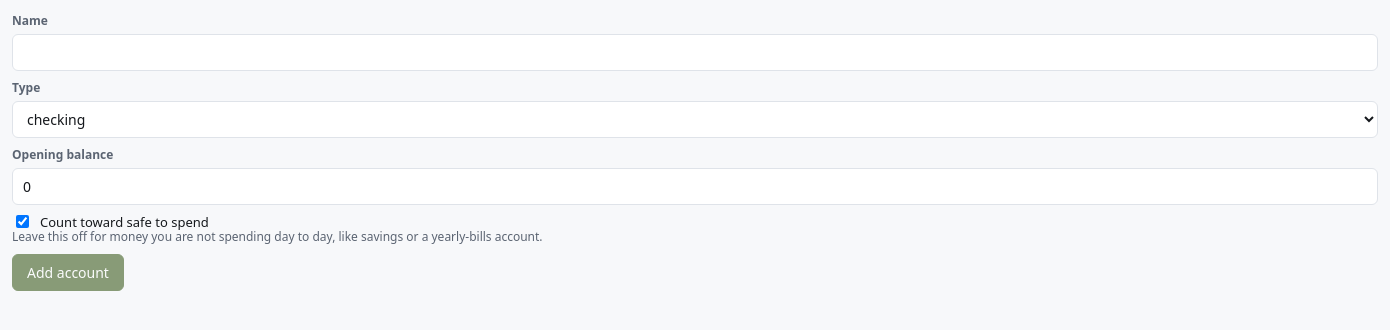
AddAccountForm › puts the server's issue on the field it names
Type "Checking" into the field labelled "Name".
click(695, 52); type("Checking")  # box [12,34,1378,71]
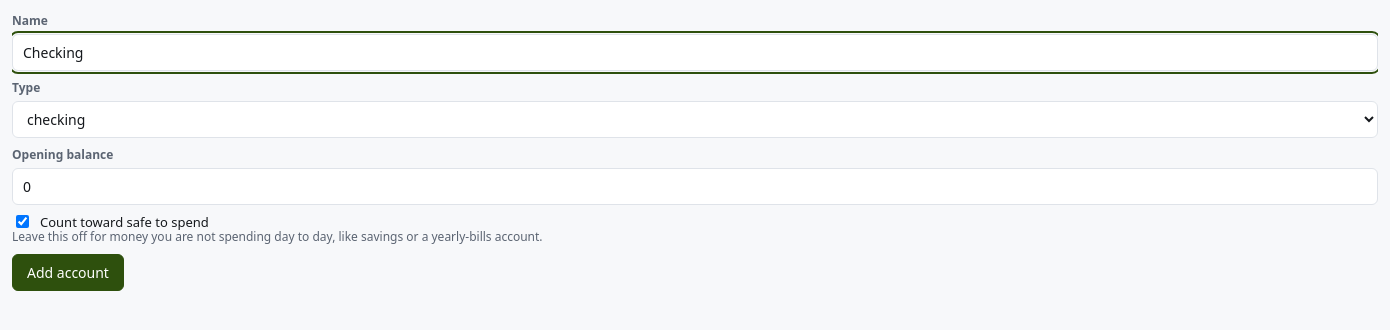
Click the button "Add account".
click(68, 272)  # box [12,254,124,291]
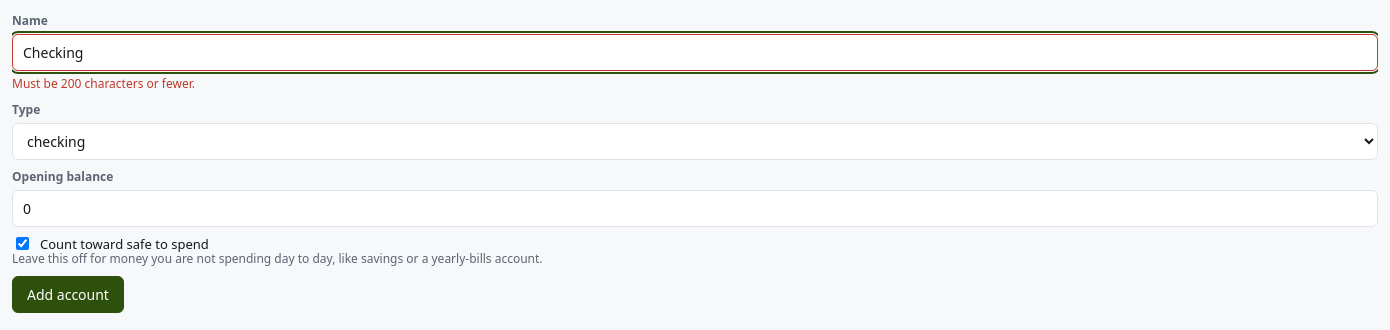
Result: the text "Must be 200 characters or fewer." is shown at [12,75,195,92]
